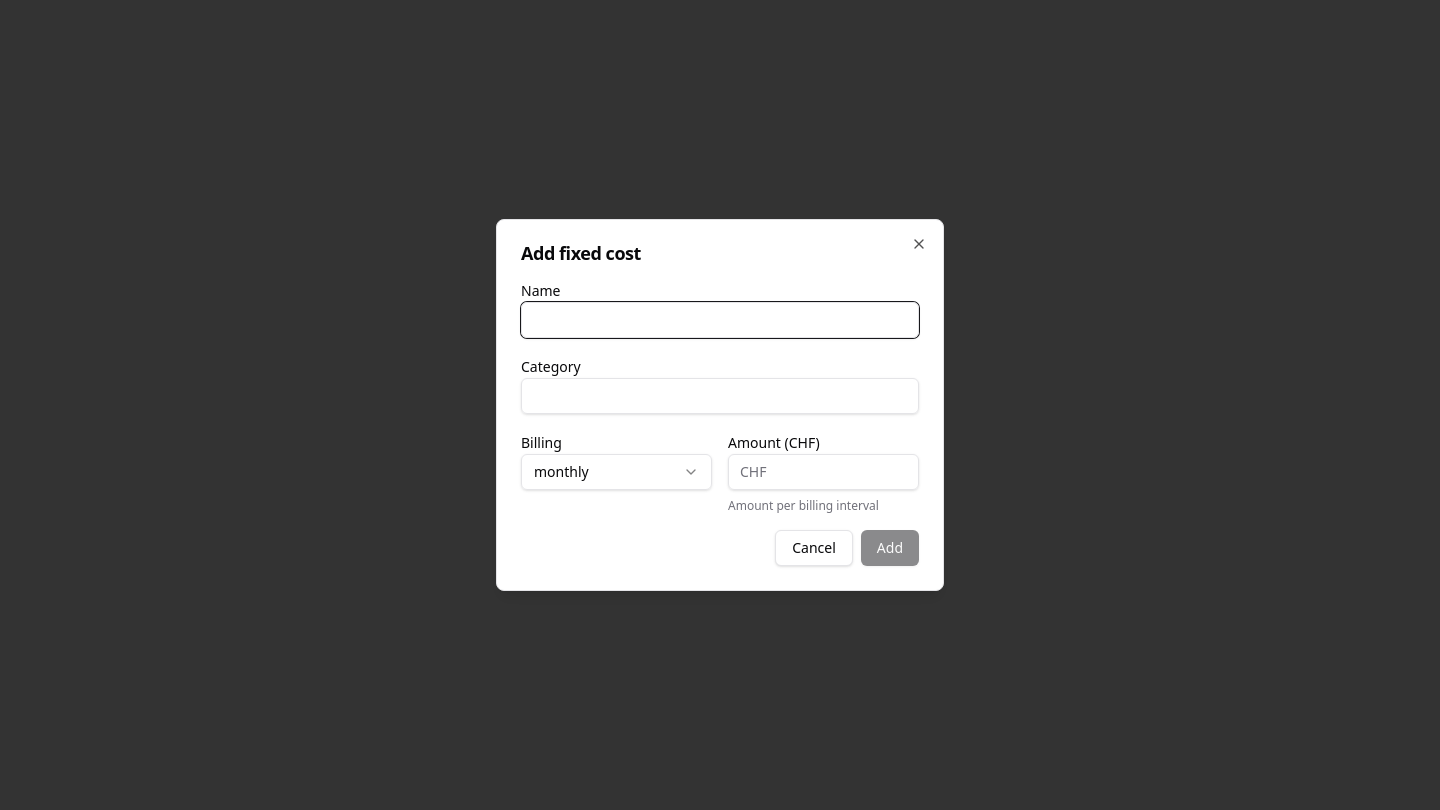
it: FixedCostDialog › category combobox › fills the input with a clicked suggestion
The image size is (1440, 810).
Click the dropdown labelled "Category" at (720, 396), box [521,378,919,414]
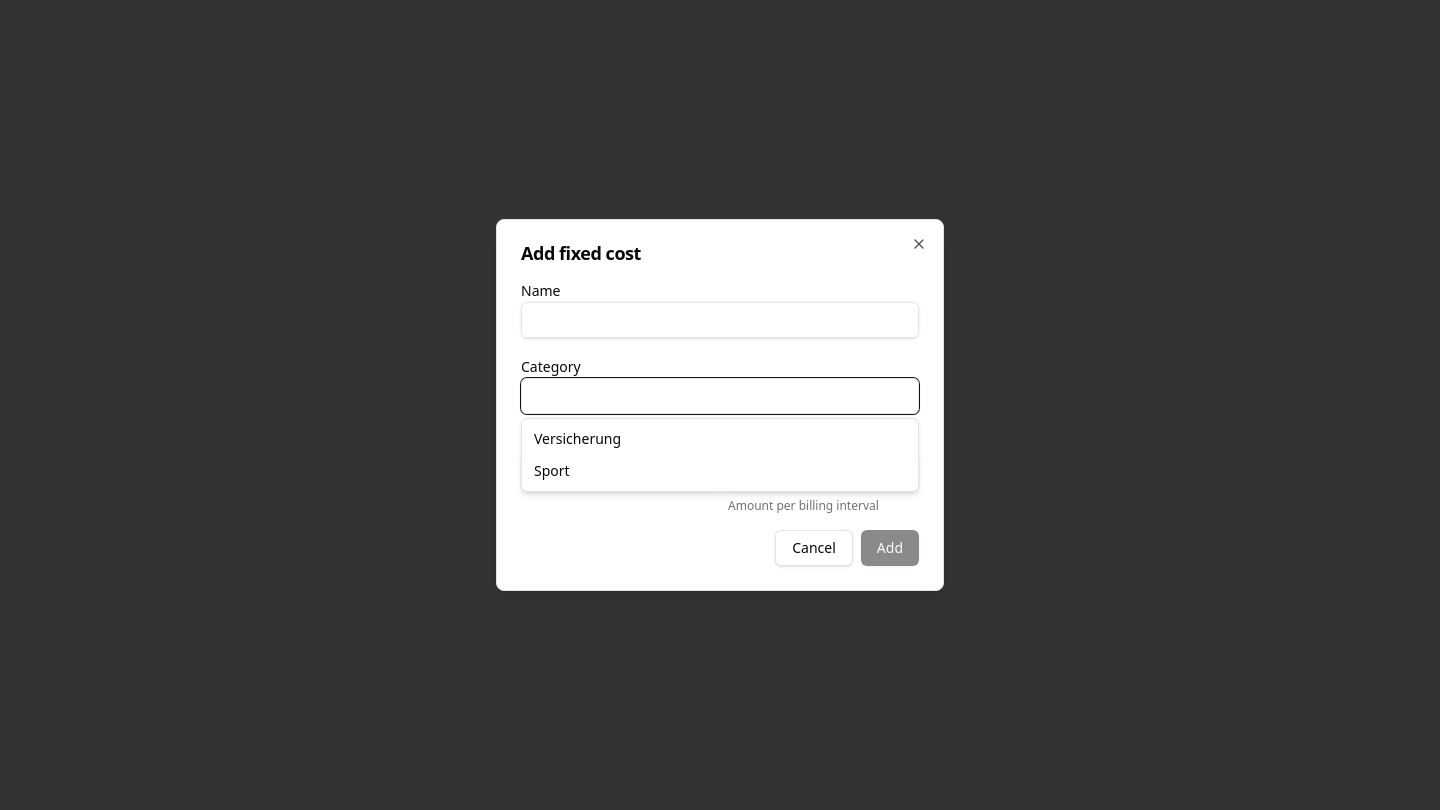
Click the option "Versicherung" at (578, 438), box [534,429,621,448]
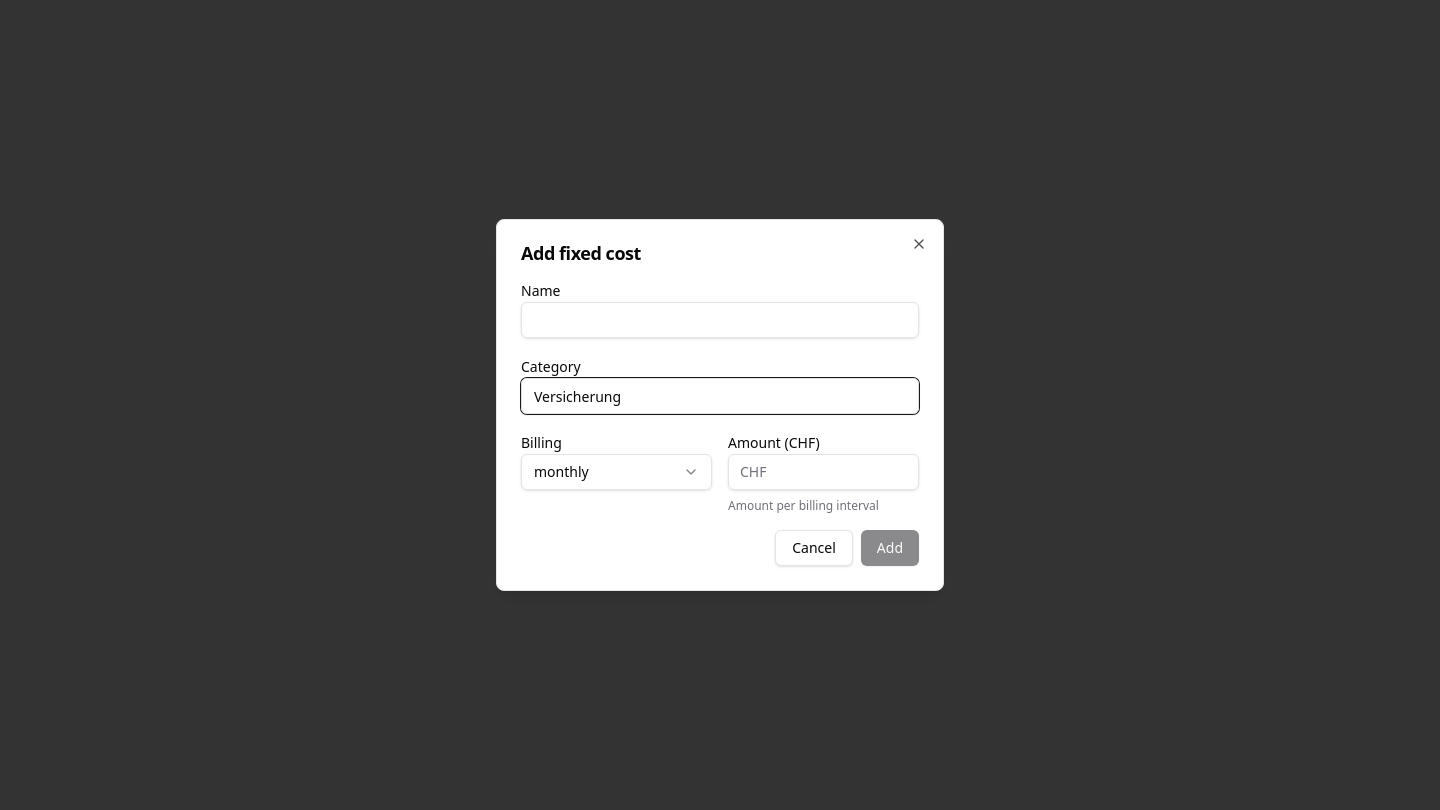
Now the dropdown labelled "Category" holds "Versicherung", box [521,378,919,414]
Now the list is gone
